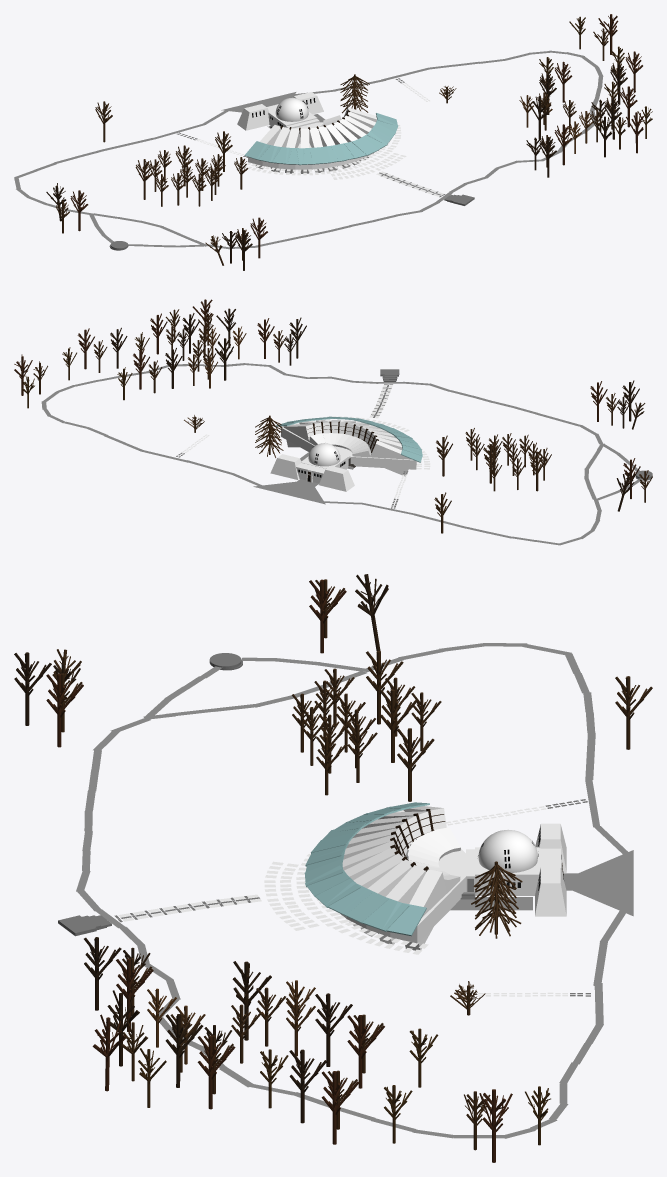
Rendered from asmundarsafn_03_26.obj.
The picture shows the model from 3 angles, top to bottom: view 1: azimuth 30°, elevation 25°; view 2: azimuth 150°, elevation 25°; view 3: azimuth 270°, elevation 25°; orthographic projection. The views are drawn at different scales.
Visible parts, largest first — view 1: Plane.001, Cube.047, Cube.033, syningarsalur, Sphere, h_hlid, Cylinder.066; view 2: Plane.001, Cube.033, syningarsalur, Cube.047, h_hlid, Sphere, v_hlid, Cylinder.066; view 3: Plane.001, Cube.033, Cube.047, syningarsalur, Sphere, v_hlid, Cylinder.066, innanhus.
Boxes of the visible parts, x1=… form: Plane.001: x1=14, y1=50, x2=603, y2=250; Cube.047: x1=244, y1=113, x2=398, y2=165; Cube.033: x1=255, y1=107, x2=376, y2=173; syningarsalur: x1=248, y1=122, x2=373, y2=169; Sphere: x1=275, y1=98, x2=308, y2=121; h_hlid: x1=237, y1=104, x2=269, y2=130; Cylinder.066: x1=340, y1=74, x2=369, y2=113; Plane.001: x1=41, y1=363, x2=650, y2=545; Cube.033: x1=283, y1=420, x2=411, y2=476; syningarsalur: x1=281, y1=420, x2=416, y2=469; Cube.047: x1=276, y1=416, x2=422, y2=462; h_hlid: x1=319, y1=466, x2=354, y2=491; Sphere: x1=308, y1=443, x2=340, y2=466; v_hlid: x1=270, y1=454, x2=301, y2=479; Cylinder.066: x1=255, y1=415, x2=283, y2=457; Plane.001: x1=58, y1=643, x2=633, y2=1138; Cube.033: x1=342, y1=806, x2=460, y2=950; Cube.047: x1=304, y1=802, x2=429, y2=936; syningarsalur: x1=341, y1=810, x2=465, y2=943; Sphere: x1=478, y1=829, x2=537, y2=872; v_hlid: x1=535, y1=867, x2=566, y2=916; Cylinder.066: x1=473, y1=861, x2=522, y2=938; innanhus: x1=475, y1=847, x2=540, y2=895.
Bounding box in the file's own units: 160 × 12.29 × 80.33.
